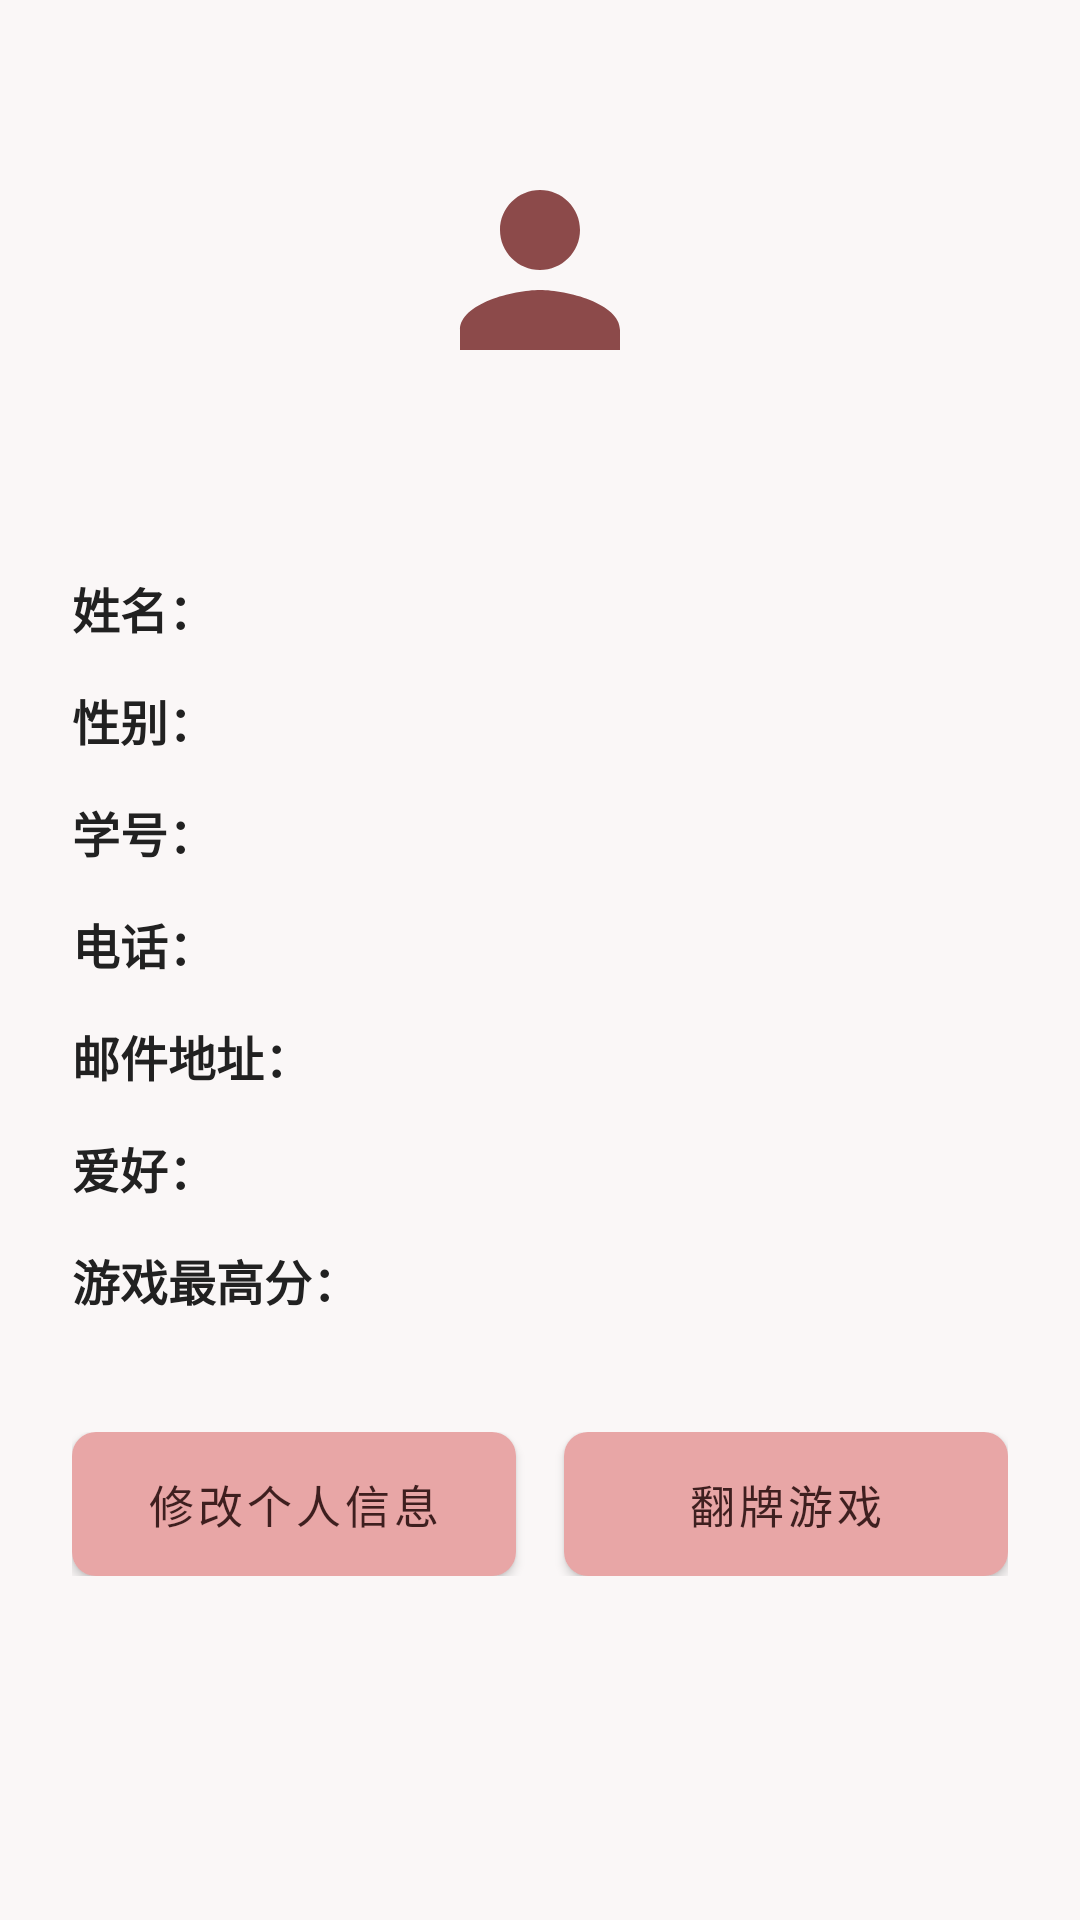

Locate icon controls on the screen. Image size 1080 × 1920, boxes as [x1,y1,x2,y2].
头像: [460,190,620,350]
